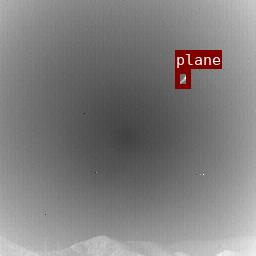plane: (175, 69, 190, 88)
